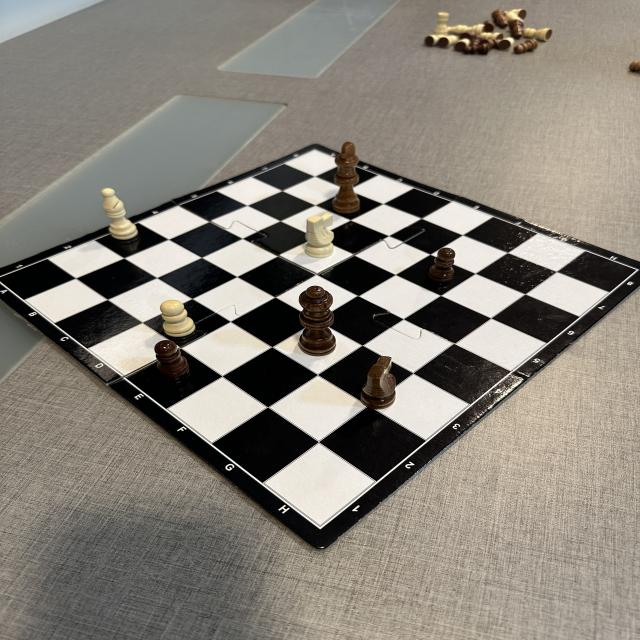Black-King: (332, 142, 361, 214)
Black-Knight: (360, 356, 396, 409)
Black-Pawn: (154, 340, 190, 378), (428, 248, 456, 282)
Black-Queen: (298, 286, 337, 356)
White-Bishop: (102, 188, 138, 240)
White-Knight: (305, 212, 334, 258)
White-Pawn: (160, 300, 196, 337)
